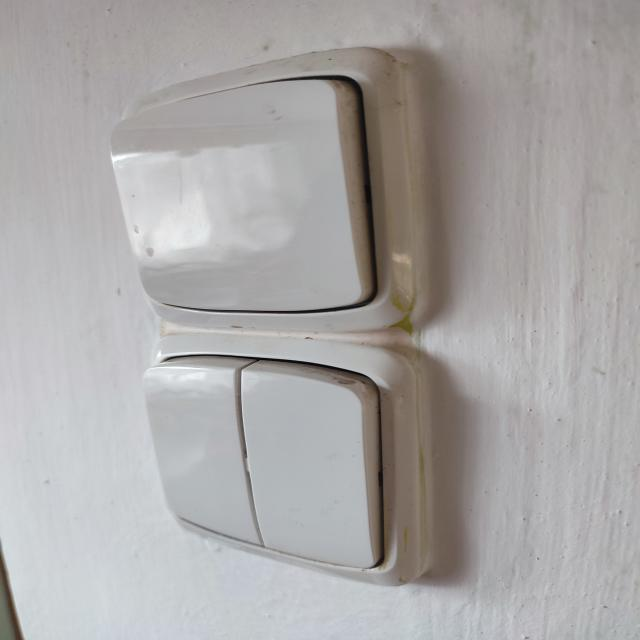house switch: (105, 46, 417, 331)
house switch double: (148, 335, 426, 590)
